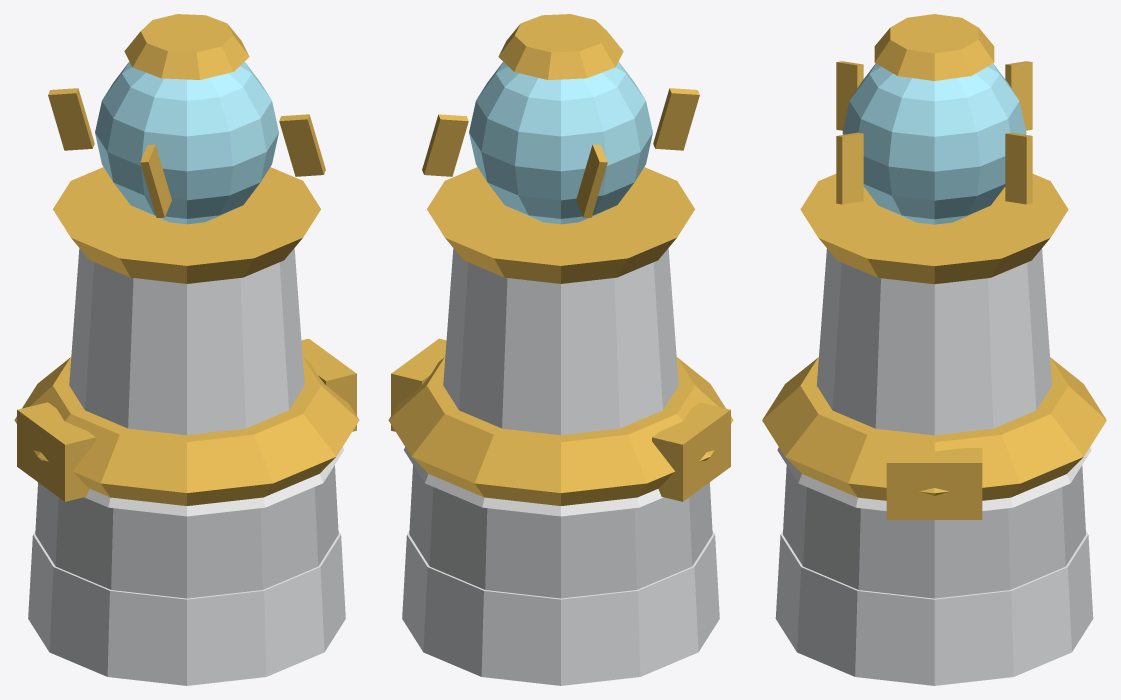
Rendered from tower_tesla_l2.glb.
3 views of the same model, side by side, from view 1: azimuth 30°, elevation 25°; view 2: azimuth 150°, elevation 25°; view 3: azimuth 270°, elevation 25° (orthographic).
Parts seen in each view (by area): view 1: tower_tesla_l2; view 2: tower_tesla_l2; view 3: tower_tesla_l2.
Part boxes in pixels (bbox=[...]): tower_tesla_l2: bbox=[14, 14, 359, 685]; tower_tesla_l2: bbox=[388, 14, 733, 685]; tower_tesla_l2: bbox=[762, 14, 1106, 685].
Bounding box in the file's own units: 0.63 × 1.18 × 0.63.
